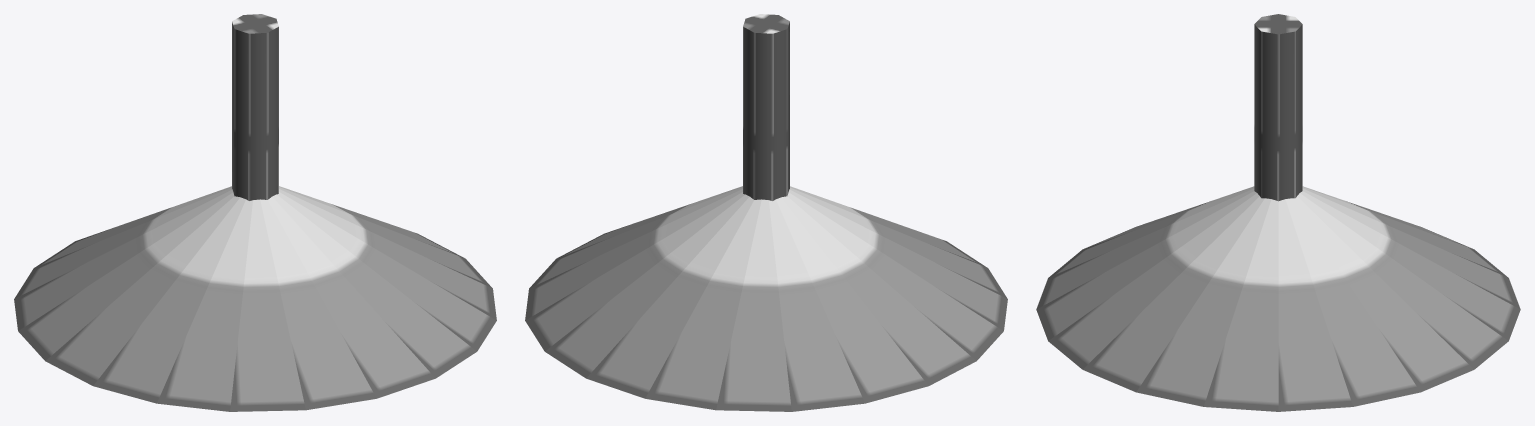
The model's file is Light_Fixture.fbx.
3 views of the same model, side by side, from view 1: azimuth 30°, elevation 25°; view 2: azimuth 150°, elevation 25°; view 3: azimuth 270°, elevation 25° (orthographic).
Parts seen in each view (by area): view 1: Bowl, Neck; view 2: Bowl, Neck; view 3: Bowl, Neck.
Boxes of the visible parts, x1,y1,x2,y2 form: Bowl: [14, 186, 496, 411]; Neck: [232, 14, 278, 200]; Bowl: [525, 186, 1007, 411]; Neck: [743, 14, 789, 200]; Bowl: [1036, 186, 1520, 411]; Neck: [1254, 14, 1302, 201].
Bounding box in the file's own units: 40 × 31.76 × 40.
